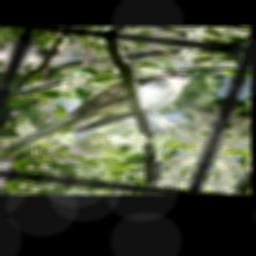Cuckoo: (0, 55, 207, 175)
